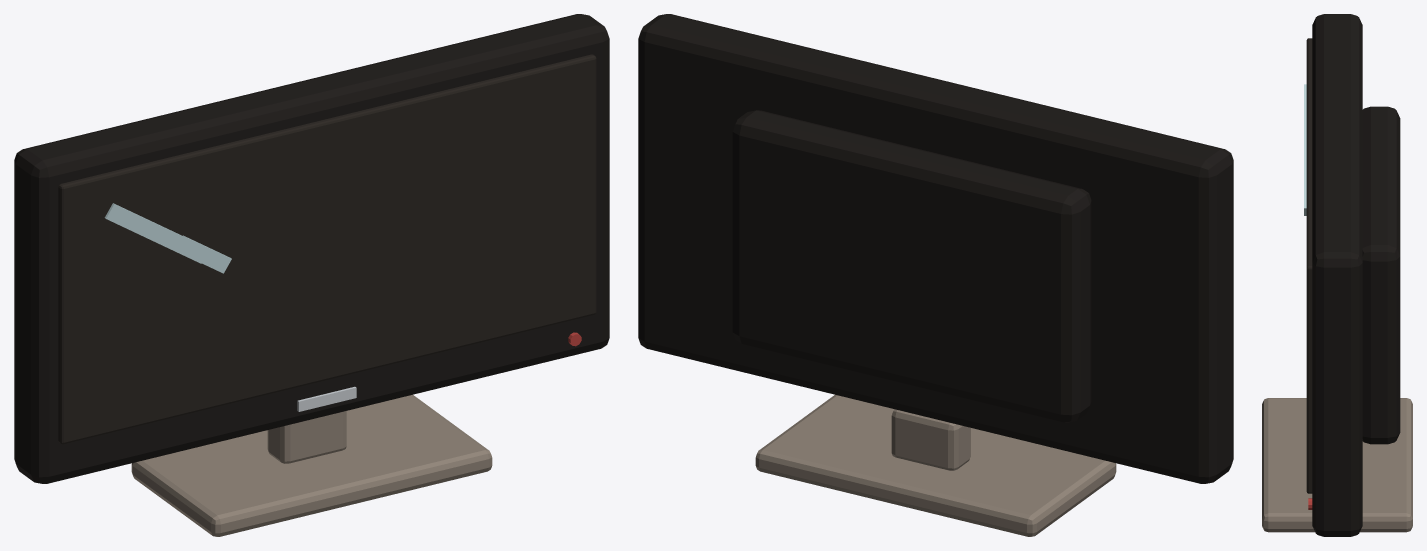
The model's file is hh_cat_tv_small.glb.
3 renders of one model, left to right at view 1: azimuth 30°, elevation 25°; view 2: azimuth 150°, elevation 25°; view 3: azimuth 270°, elevation 25°, orthographic. The views are drawn at different scales.
Visible parts, largest first — view 1: screen, body, stand_foot, stand_neck, screen_glare, logo; view 2: body, back_cover, stand_foot, stand_neck; view 3: body, back_cover, stand_foot, screen, screen_glare.
Boxes of the visible parts, x1,y1,x2,y2 form: screen: [58, 54, 596, 444]; body: [14, 14, 609, 483]; stand_foot: [131, 394, 492, 536]; stand_neck: [267, 411, 346, 463]; screen_glare: [104, 203, 209, 263]; logo: [297, 386, 356, 411]; body: [638, 14, 1233, 483]; back_cover: [732, 110, 1091, 422]; stand_foot: [755, 394, 1116, 536]; stand_neck: [891, 409, 970, 470]; body: [1312, 14, 1362, 536]; back_cover: [1362, 106, 1400, 444]; stand_foot: [1262, 398, 1412, 532]; screen: [1306, 38, 1312, 493]; screen_glare: [1304, 84, 1306, 157].
Size of the model in its own units: 0.7 by 0.45 by 0.18.
